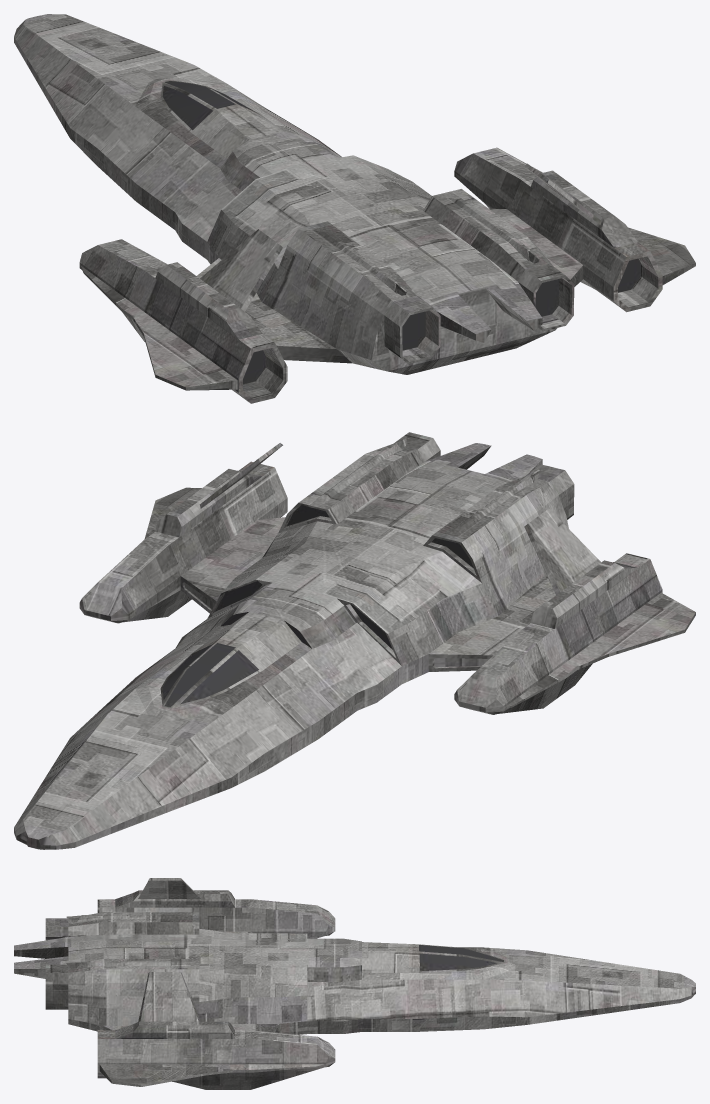
The model's file is spaceship.obj.
3 renders of one model, top to bottom at view 1: azimuth 30°, elevation 25°; view 2: azimuth 150°, elevation 25°; view 3: azimuth 270°, elevation 25°, orthographic. The views are drawn at different scales.
Visible parts, largest first — view 1: Cube.008_Cube.014; view 2: Cube.008_Cube.014; view 3: Cube.008_Cube.014.
Boxes of the visible parts, x1=… form: Cube.008_Cube.014: x1=14, y1=14, x2=695, y2=403; Cube.008_Cube.014: x1=14, y1=432, x2=695, y2=849; Cube.008_Cube.014: x1=14, y1=878, x2=695, y2=1089.
Size of the model in its own units: 13.54 by 3.24 by 21.07.
1 material, 1 textured.
